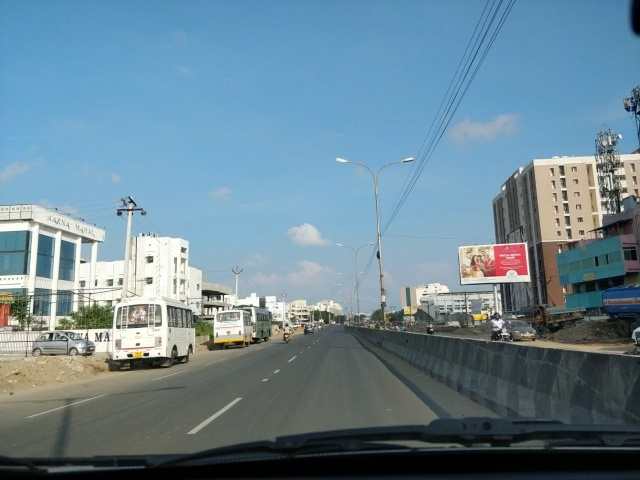bus: (110, 297, 197, 367), (210, 309, 254, 353), (234, 302, 271, 342), (212, 310, 253, 344)
car: (35, 329, 95, 354), (506, 318, 535, 339), (306, 324, 313, 331)
motorbike: (487, 328, 511, 340), (283, 322, 292, 341), (425, 323, 436, 334), (395, 327, 399, 331)
person: (490, 312, 506, 328), (491, 312, 506, 328), (393, 320, 399, 325)
truck: (522, 304, 587, 332), (603, 289, 639, 338)
